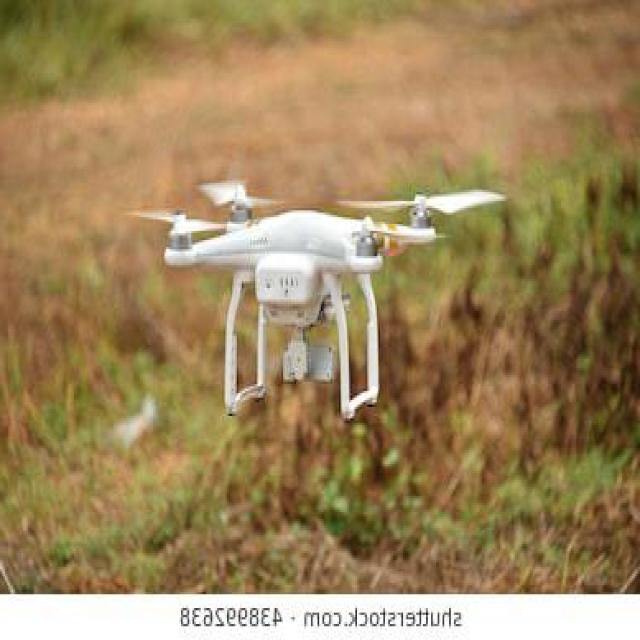drone: (122, 174, 512, 422)
